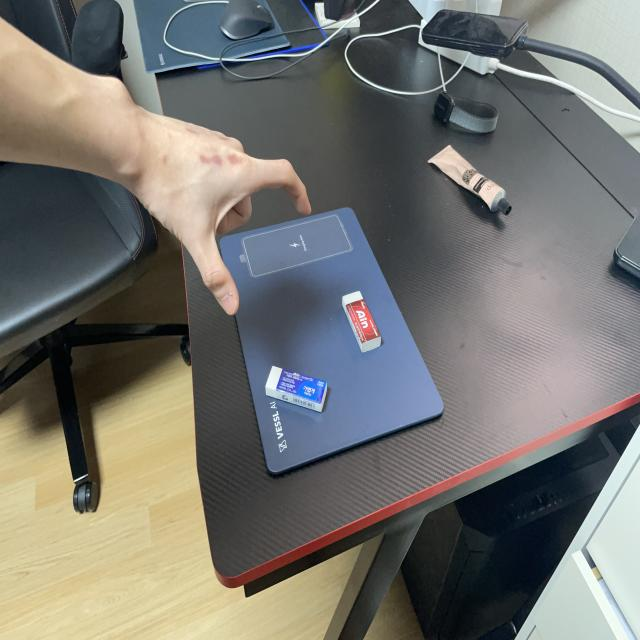blue: (262, 361, 332, 420)
red: (338, 286, 387, 356)
